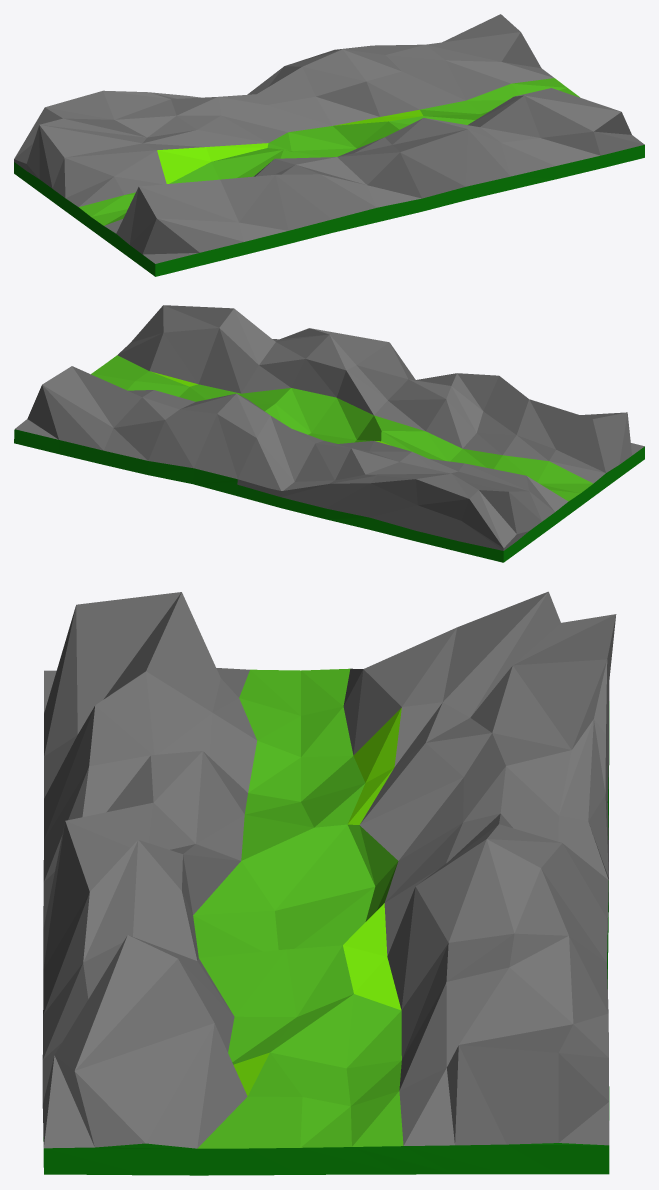
Rendered from PlaneSummer4.fbx.
The picture shows the model from 3 angles, top to bottom: view 1: azimuth 30°, elevation 25°; view 2: azimuth 150°, elevation 25°; view 3: azimuth 270°, elevation 25°; orthographic projection. The views are drawn at different scales.
Parts seen in each view (by area): view 1: PlaneSummer4.Cliffs, PlaneSummer4.Floor, PlaneSummer4.Grass, PlaneSummer4.Grass1; view 2: PlaneSummer4.Cliffs, PlaneSummer4.Grass, PlaneSummer4.Floor; view 3: PlaneSummer4.Cliffs, PlaneSummer4.Grass, PlaneSummer4.Floor, PlaneSummer4.Grass1.
Boxes of the visible parts, left/top/right/bottom form: PlaneSummer4.Cliffs: left=14, top=14, right=644, bottom=263; PlaneSummer4.Floor: left=14, top=144, right=644, bottom=276; PlaneSummer4.Grass: left=79, top=78, right=579, bottom=225; PlaneSummer4.Grass1: left=157, top=109, right=422, bottom=183; PlaneSummer4.Cliffs: left=15, top=305, right=644, bottom=550; PlaneSummer4.Grass: left=91, top=355, right=593, bottom=501; PlaneSummer4.Floor: left=14, top=429, right=644, bottom=562; PlaneSummer4.Cliffs: left=42, top=591, right=616, bottom=1148; PlaneSummer4.Grass: left=193, top=668, right=403, bottom=1148; PlaneSummer4.Floor: left=43, top=701, right=609, bottom=1175; PlaneSummer4.Grass1: left=233, top=707, right=401, bottom=1096.
Size of the model in its own units: 40039 by 5828 by 20295.
